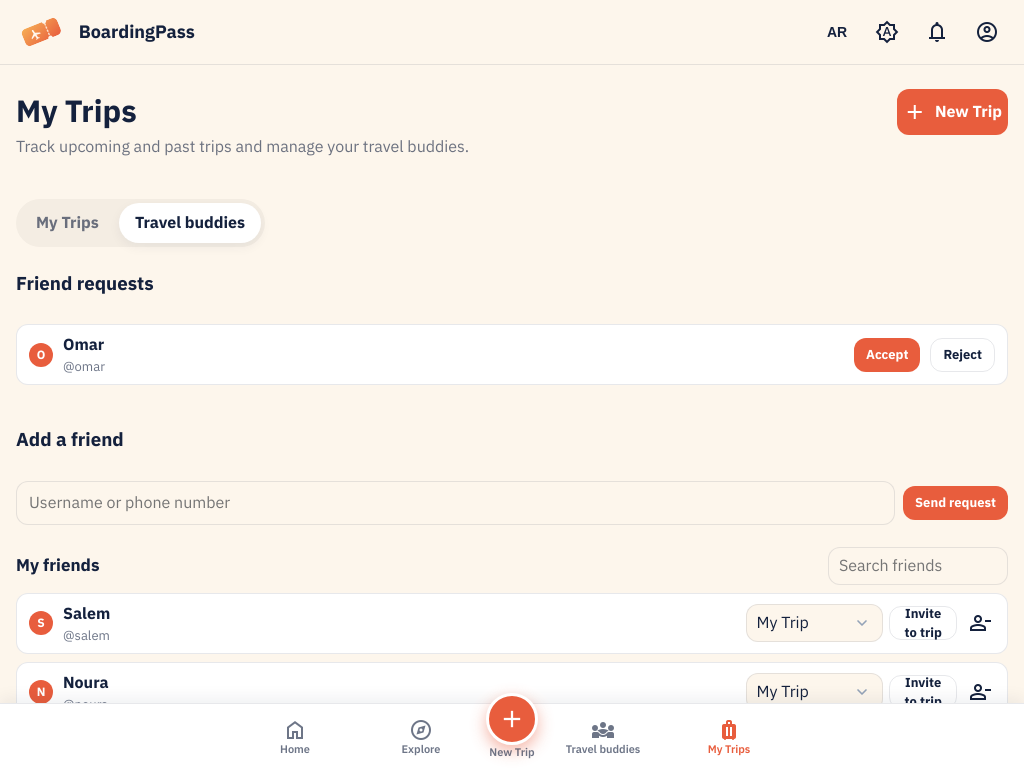
Test: US-010 Friends & Group › removes a friend (AC5)
Expected: the text "Salem" is shown, left=63, top=602, right=110, bottom=626
Click the 1st button named "Remove friend".
click(981, 623)  # box left=967, top=609, right=995, bottom=637
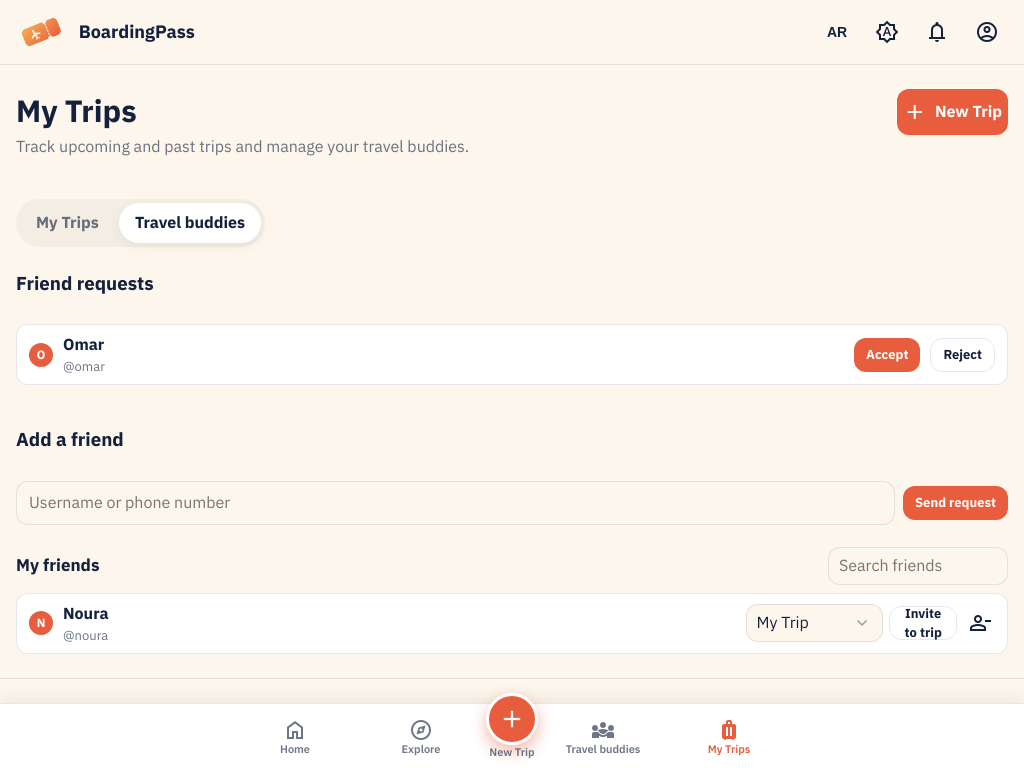
Expected: the text "Salem" is gone
